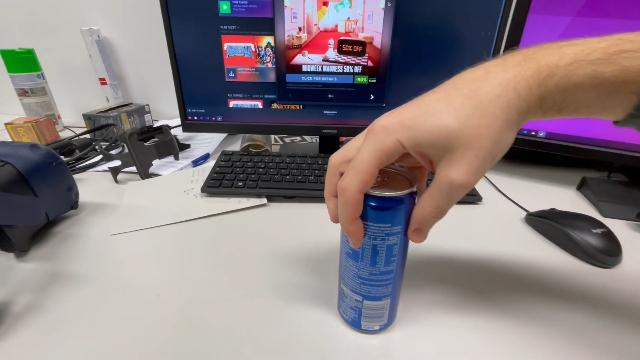Pepsi: (333, 161, 422, 339)
